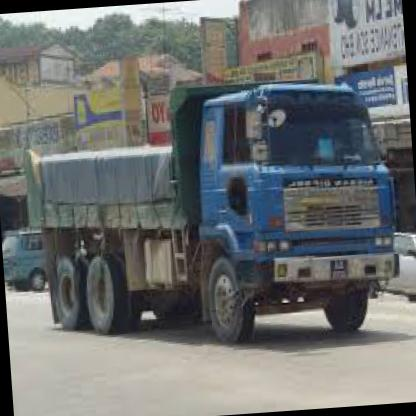truck: (185, 72, 410, 354)
